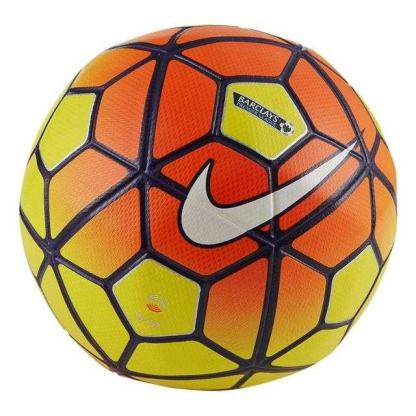ball: (19, 24, 399, 392)
